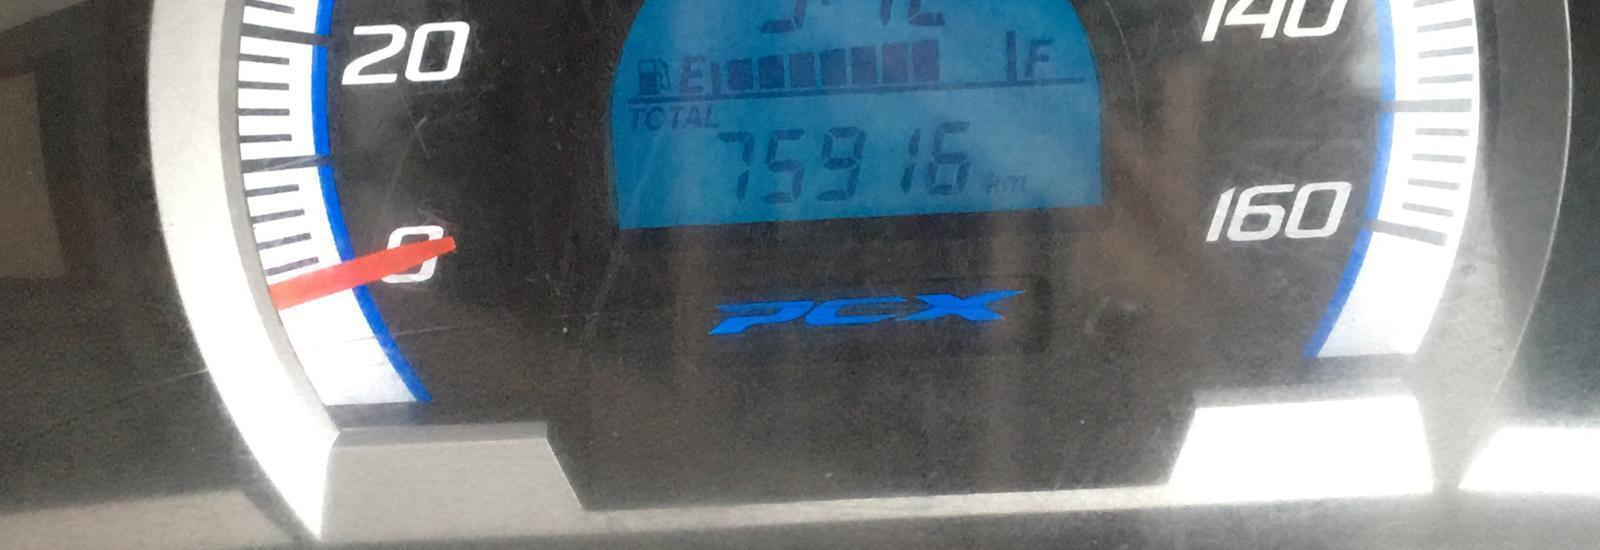1: (892, 122, 924, 199)
5: (760, 127, 806, 208)
6: (926, 117, 976, 200)
7: (713, 128, 755, 208)
9: (813, 124, 868, 203)
X: (1022, 35, 1059, 77), (676, 54, 706, 94), (1001, 173, 1029, 195), (645, 104, 666, 130), (624, 105, 645, 129), (666, 103, 685, 129), (685, 103, 702, 129), (703, 104, 720, 129), (984, 171, 1002, 193)
odometer: (584, 1, 1122, 237)
